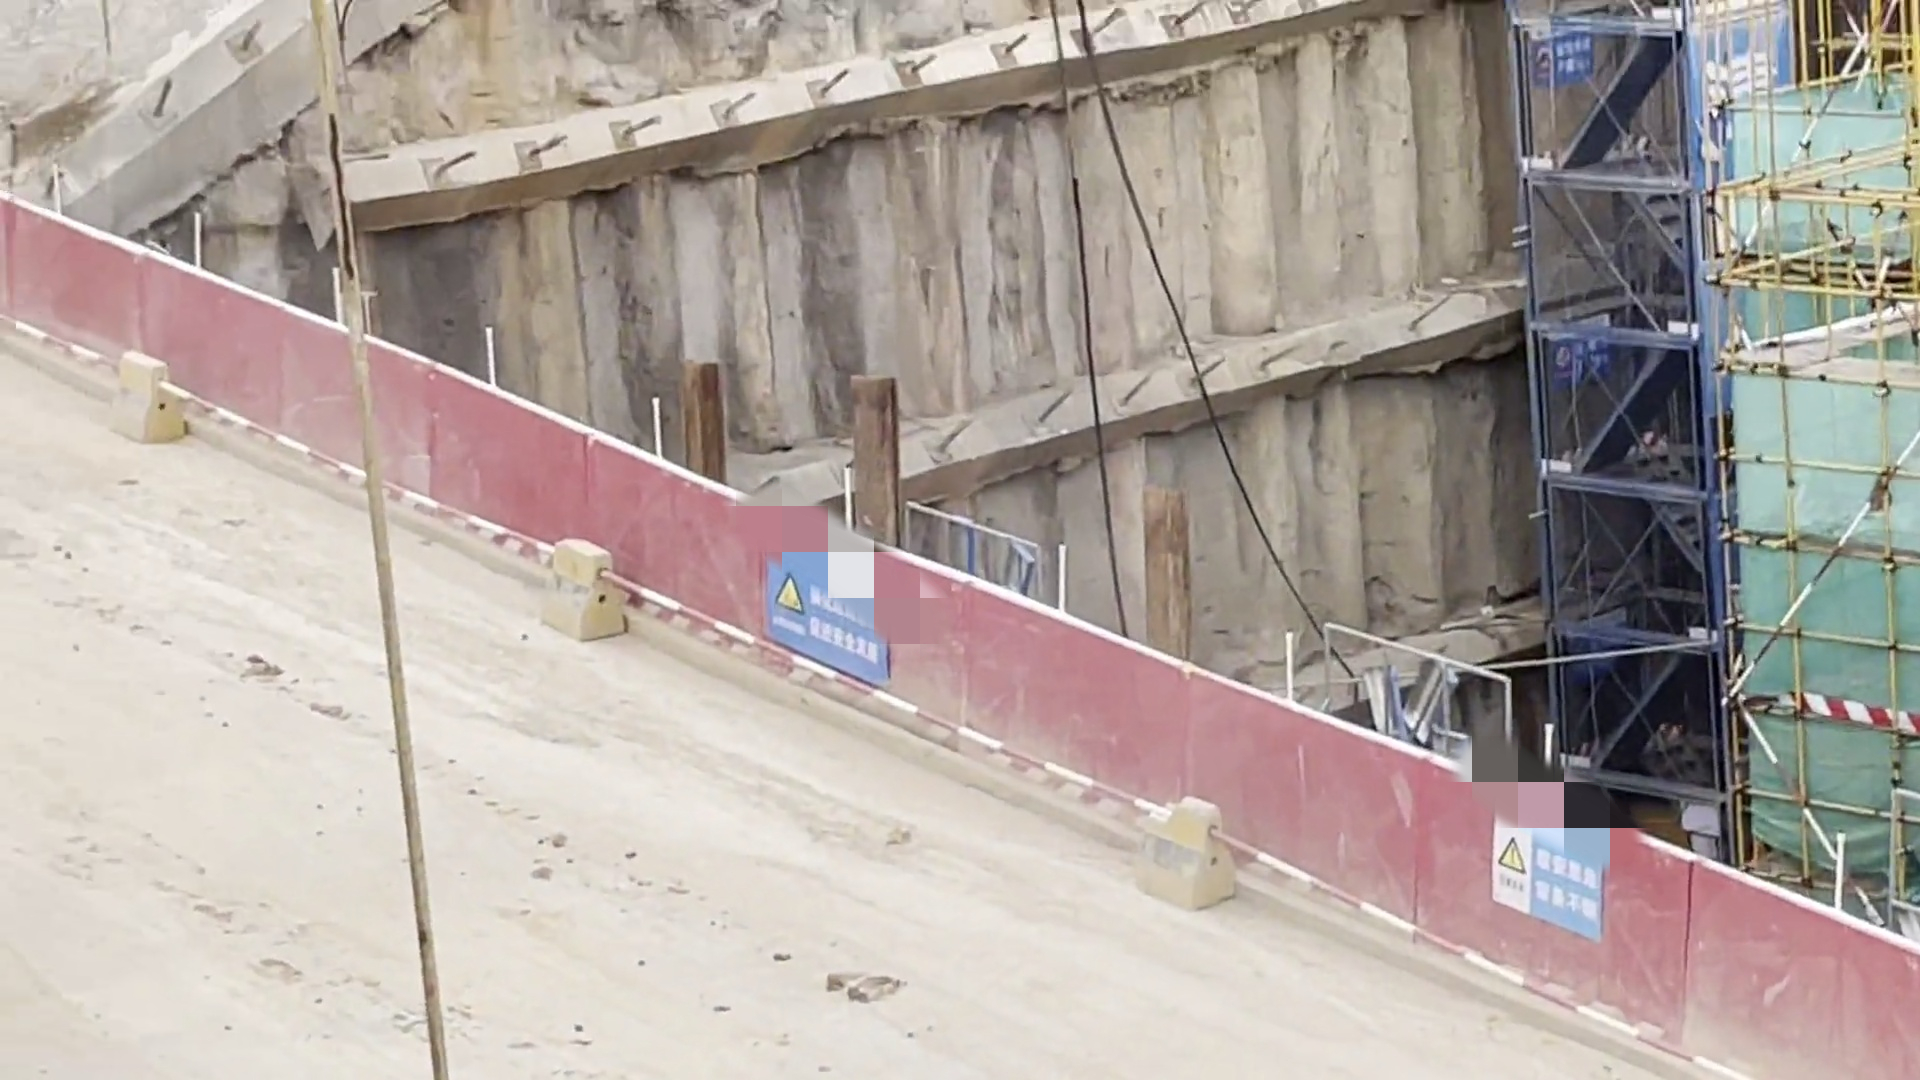fence: (1, 164, 1741, 1075)
slogan: (760, 551, 893, 670), (1487, 811, 1597, 938)
